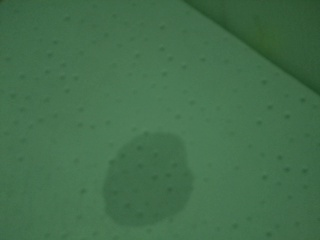Water_detected: (104, 137, 185, 212)
